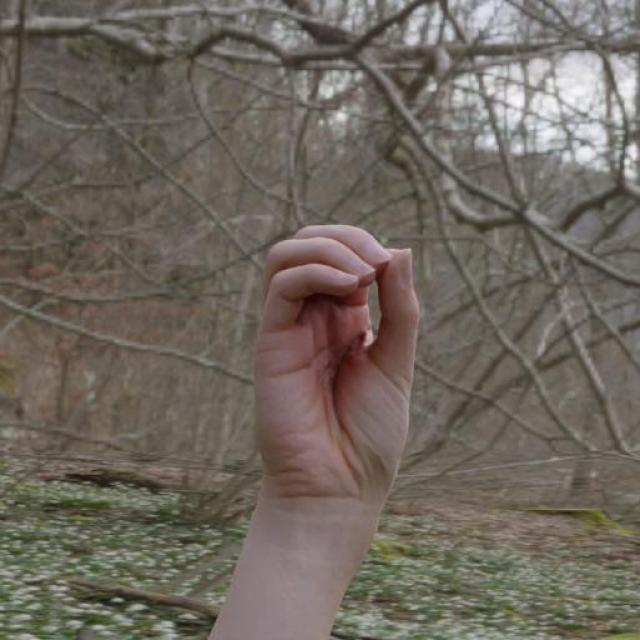O: (254, 215, 432, 520)
